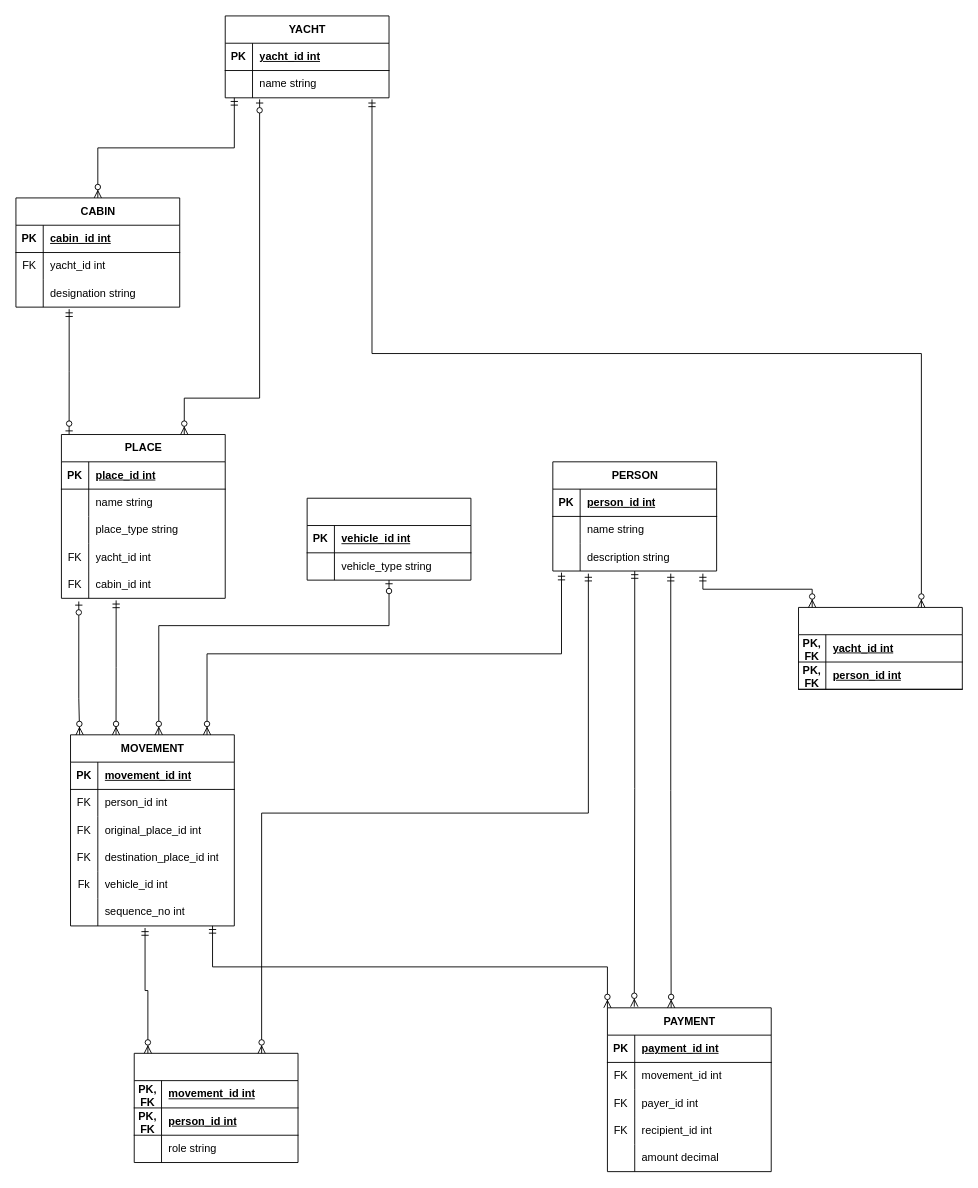
Image size: 978x1188. Some labels were removed from this diagram. Here are the shapes that lost their labels. From the top down, the box of each, then its label:
(306, 497, 471, 580): VEHILE
(798, 607, 962, 689): YACHT_CREW
(133, 1052, 298, 1163): MOVEMENT_WORKER
